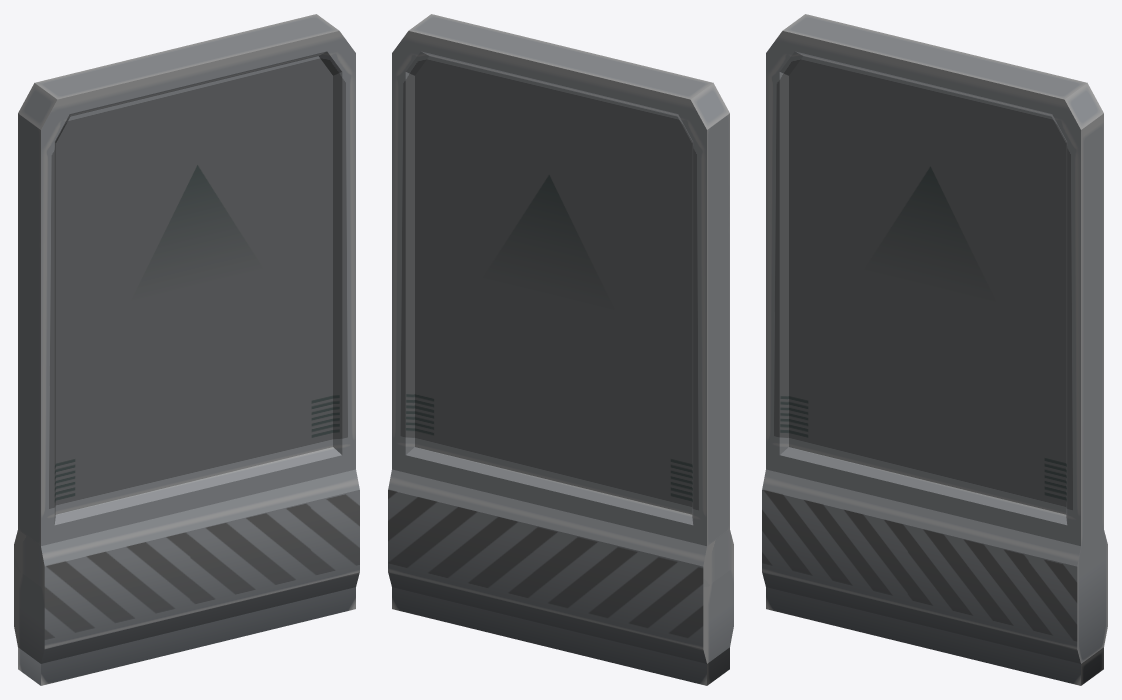
File: SM_Prop_Door.fbx
The picture shows the model from 3 angles, left to right: view 1: azimuth 30°, elevation 25°; view 2: azimuth 150°, elevation 25°; view 3: azimuth 330°, elevation 25°; orthographic projection.
Visible parts, largest first — view 1: SM_Prop_Door_low; view 2: SM_Prop_Door_low; view 3: SM_Prop_Door_low.
Boxes of the visible parts, x1,y1,x2,y2 form: SM_Prop_Door_low: (14,14,359,685); SM_Prop_Door_low: (388,14,733,685); SM_Prop_Door_low: (762,14,1107,685).
Size of the model in its own units: 122 by 215 by 20.46.
1 material, 1 textured.
